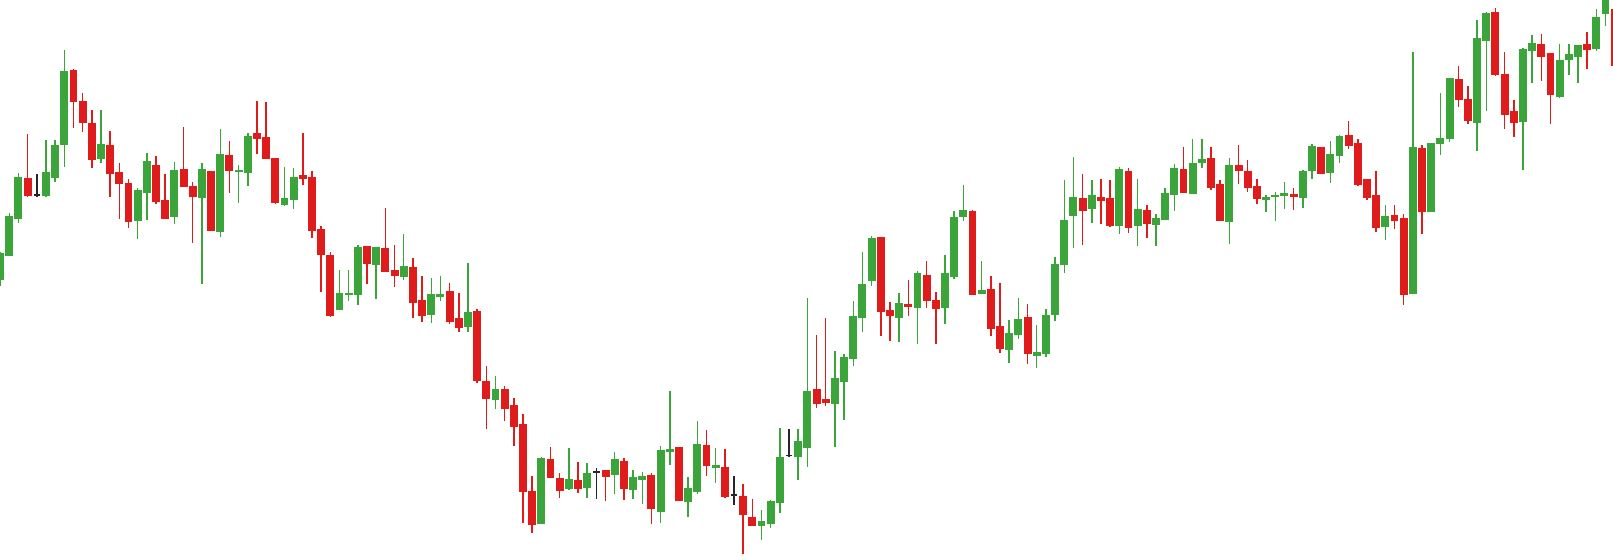buy: (932, 240, 1013, 374), (1471, 46, 1528, 171)
sell: (178, 98, 273, 205)
